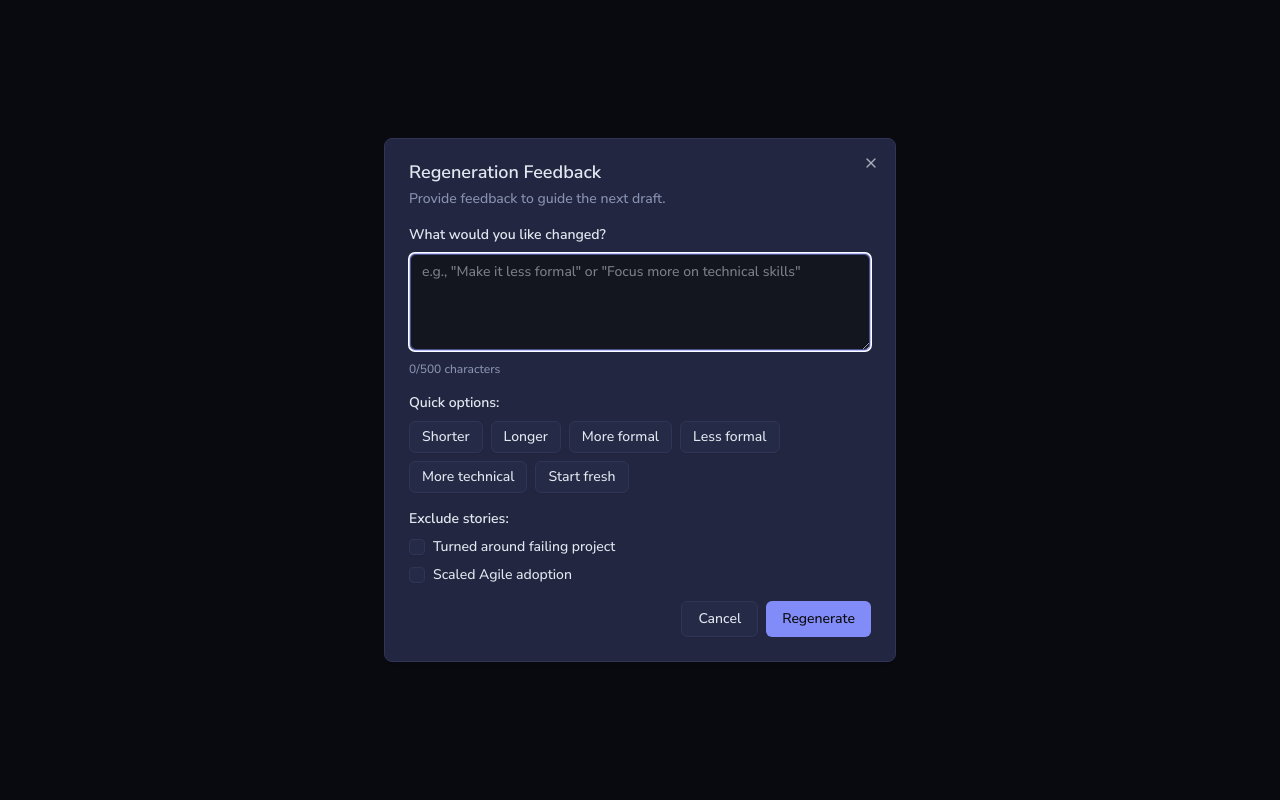
it: RegenerationFeedbackModal › quick option chips › clicking a chip populates the textarea
Step 1. Click the button "Shorter" → (446, 437), box [409,421,482,453]
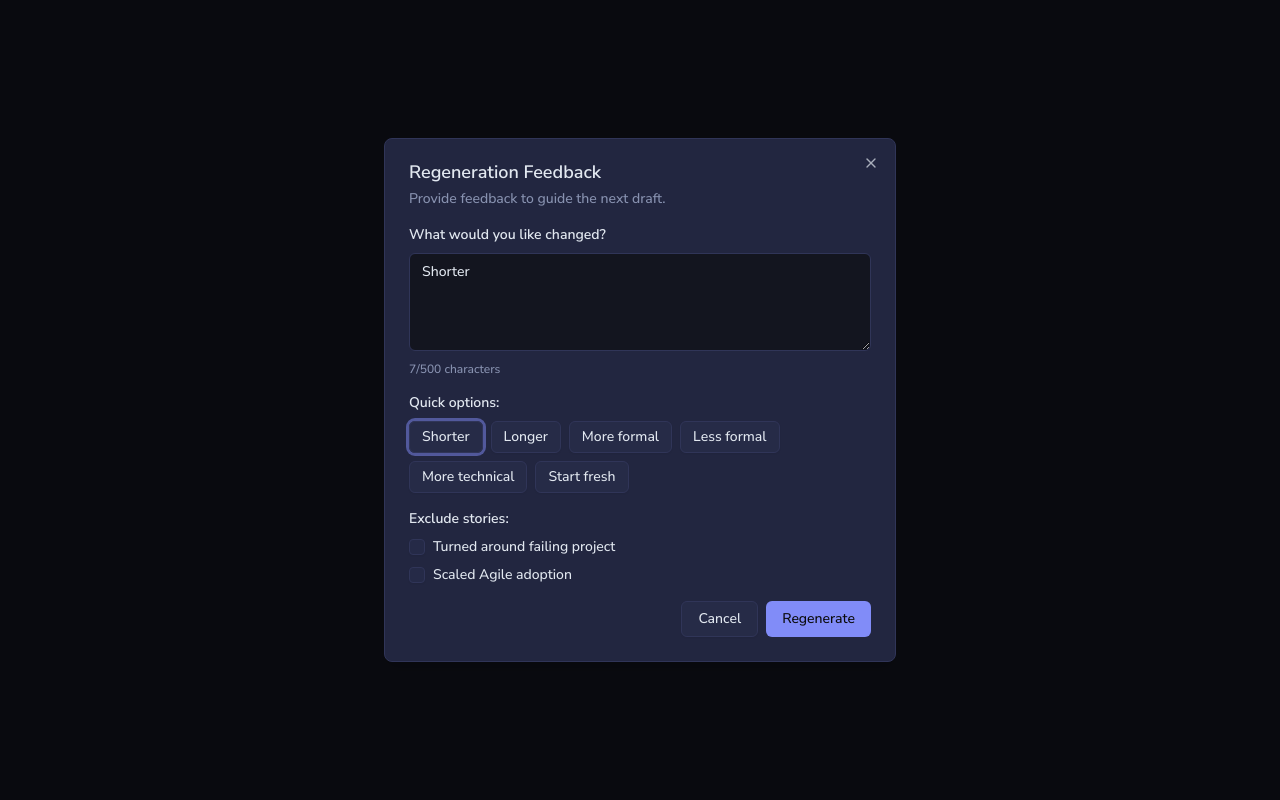
Expected: the text box labelled "What would you like changed?" holds "Shorter", [409,253,871,351]
